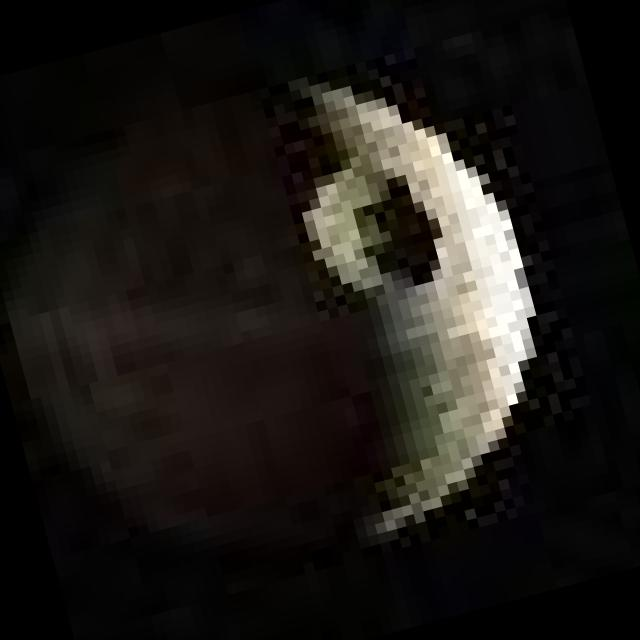Death Star: (0, 14, 585, 605)
